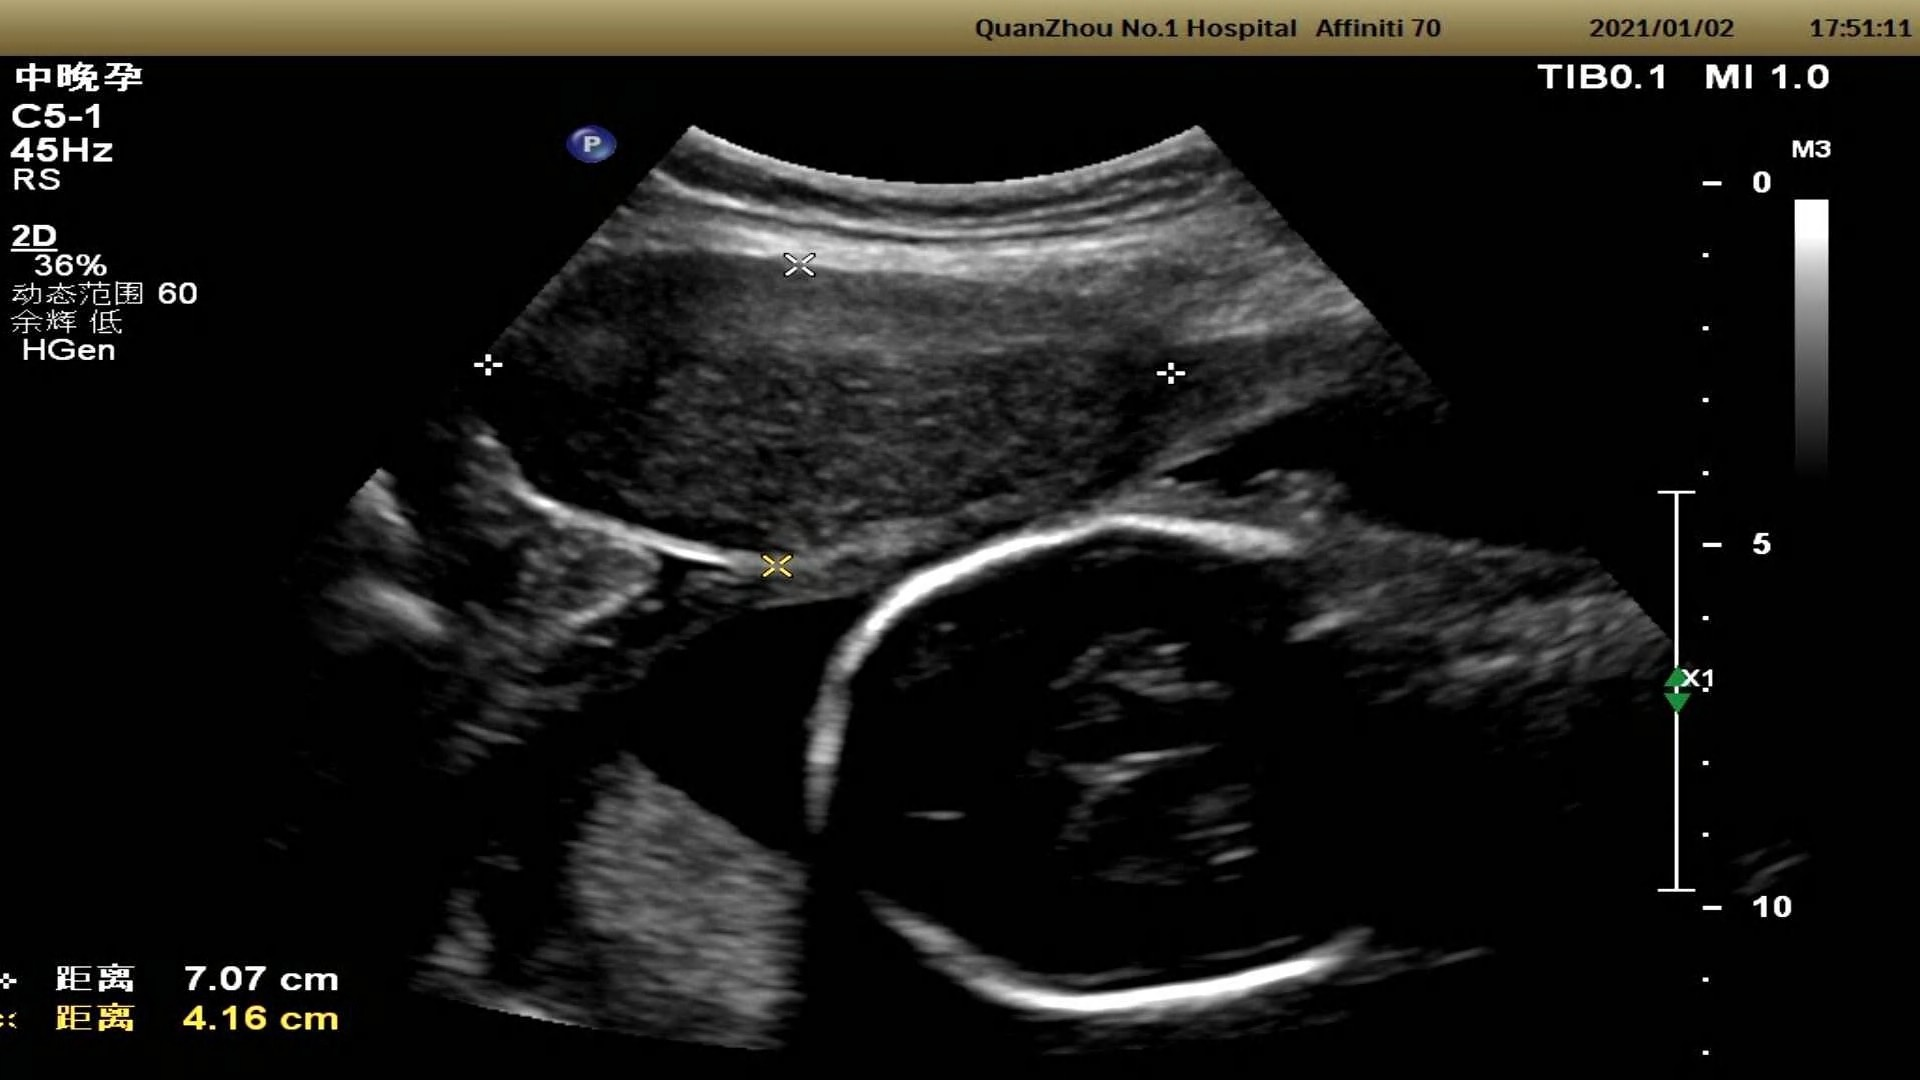肌瘤: (564, 280, 1135, 520)
